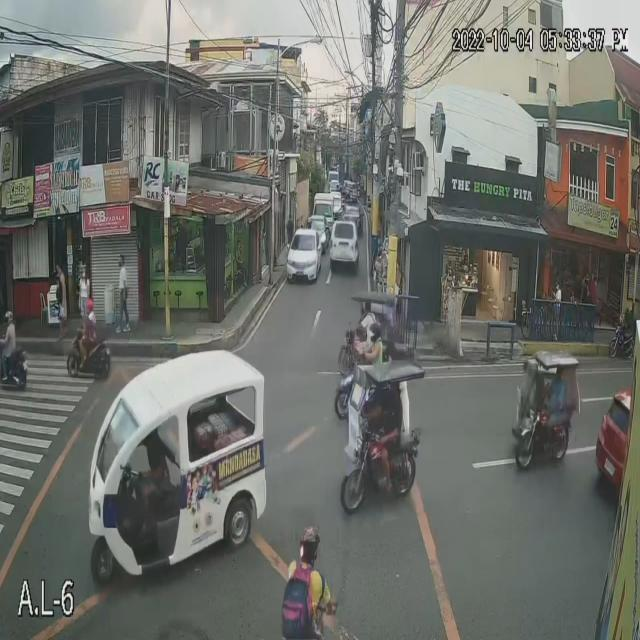Full-Faced: (366, 320, 382, 350), (4, 310, 15, 332)
